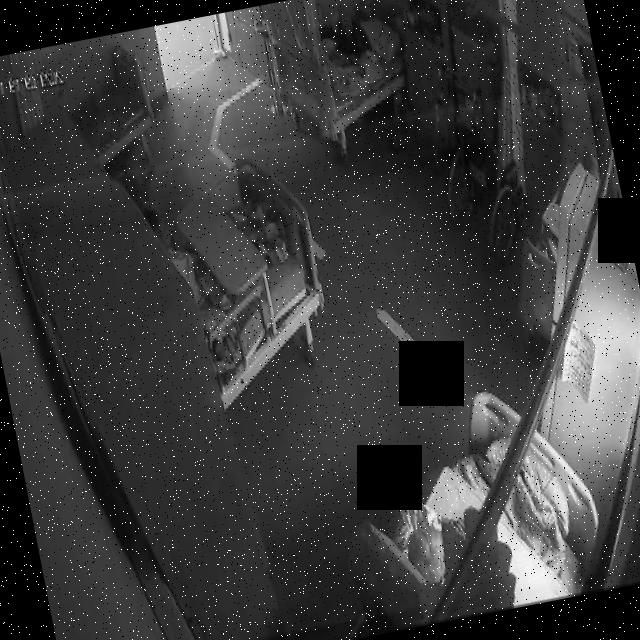bed: (332, 372, 613, 636), (152, 151, 337, 402), (264, 0, 414, 142), (58, 38, 162, 168)
